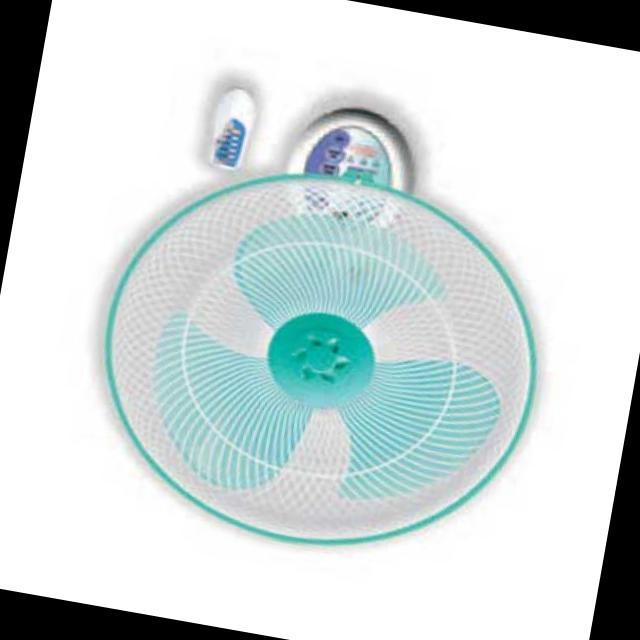fan: (29, 50, 589, 607)
